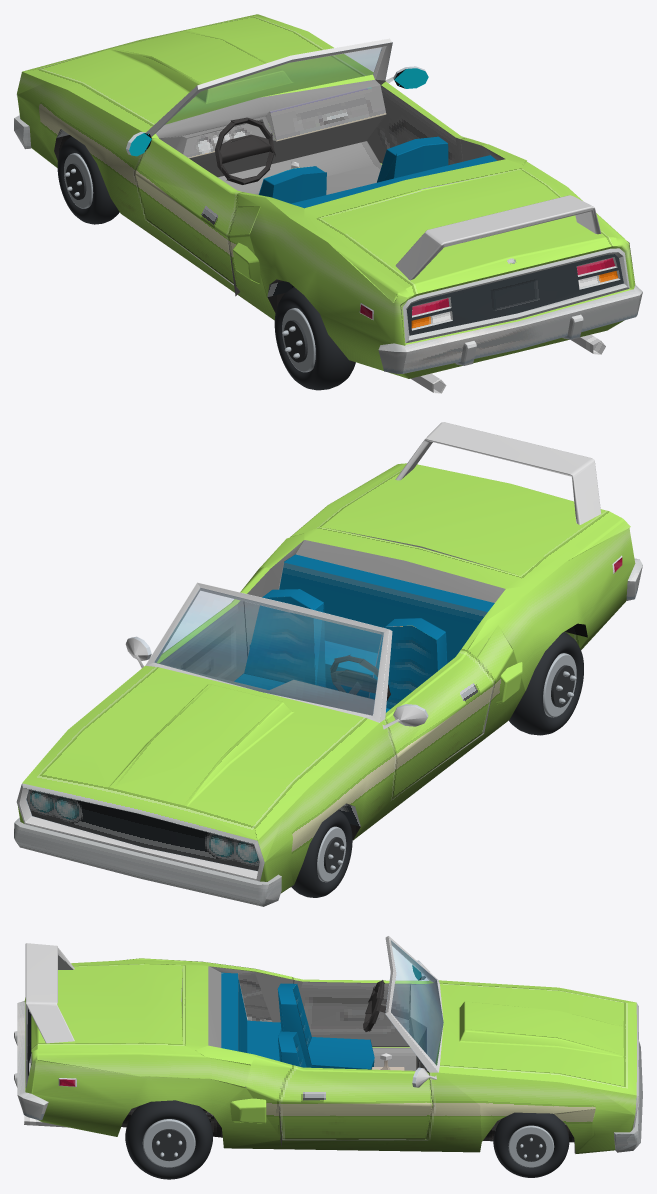
Rendered from car-homer_v.glb.
3 renders of one model, top to bottom at view 1: azimuth 30°, elevation 25°; view 2: azimuth 150°, elevation 25°; view 3: azimuth 270°, elevation 25°, orthographic. The views are drawn at different scales.
Parts seen in each view (by area): view 1: homer_vShape.004, homer_vShape.002, homer_vShape.007, HoodRotShape.002, TrunkRotShape.002, DoorDRotShape.011, homer_vShape.008, TrunkRotShape.003, homer_vShape.003, homer_vShape.006, Rounded tire.010, DoorPRotShape.011 (+6 smaller); view 2: HoodRotShape.002, homer_vShape.007, homer_vShape.004, homer_vShape.006, homer_vShape.008, TrunkRotShape.002, DoorDRotShape.011, homer_vShape.003, homer_vShape.002, TrunkRotShape.003, DoorPRotShape.011, Rounded tire.010 (+5 smaller); view 3: homer_vShape.004, HoodRotShape.002, homer_vShape.007, DoorPRotShape.010, TrunkRotShape.002, homer_vShape.005, homer_vShape.002, DoorDRotShape.012, homer_vShape.006, homer_vShape.008, Rounded tire.011, TrunkRotShape.003 (+8 smaller).
Boxes of the visible parts, x1,y1,x2,y2 form: homer_vShape.004: (17, 72, 635, 378); homer_vShape.002: (151, 74, 642, 373); homer_vShape.007: (129, 68, 505, 208); HoodRotShape.002: (40, 17, 364, 124); TrunkRotShape.002: (321, 170, 612, 293); DoorDRotShape.011: (135, 138, 243, 283); homer_vShape.008: (166, 47, 381, 123); TrunkRotShape.003: (395, 195, 601, 280); homer_vShape.003: (16, 38, 605, 393); homer_vShape.006: (14, 14, 373, 297); Rounded tire.010: (274, 287, 355, 390); DoorPRotShape.011: (377, 85, 462, 165); HoodRotShape.002: (40, 667, 365, 827); homer_vShape.007: (159, 540, 505, 715); homer_vShape.004: (17, 463, 635, 893); homer_vShape.006: (14, 632, 587, 906); homer_vShape.008: (154, 588, 383, 715); TrunkRotShape.002: (321, 464, 607, 575); DoorDRotShape.011: (385, 650, 494, 797); homer_vShape.003: (16, 555, 622, 881); homer_vShape.002: (304, 463, 642, 600); TrunkRotShape.003: (395, 422, 601, 524); DoorPRotShape.011: (159, 601, 247, 681); Rounded tire.010: (509, 632, 583, 735); homer_vShape.004: (24, 958, 636, 1153); HoodRotShape.002: (440, 983, 624, 1086); homer_vShape.007: (208, 965, 443, 1087); DoorPRotShape.010: (279, 1065, 432, 1139); TrunkRotShape.002: (31, 954, 182, 1049); homer_vShape.005: (225, 1054, 481, 1152); homer_vShape.002: (14, 961, 442, 1139); DoorDRotShape.012: (293, 980, 423, 1046); homer_vShape.006: (439, 980, 642, 1152); homer_vShape.008: (391, 941, 443, 1065); Rounded tire.011: (125, 1100, 212, 1179); TrunkRotShape.003: (25, 943, 74, 1043).
Bounding box in the file's own units: 2.37 × 1.51 × 5.3.
Materials: 12 (9 with a texture image).
